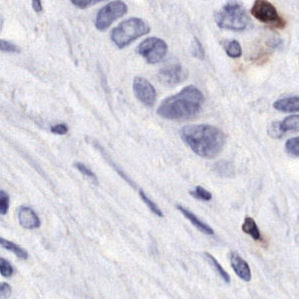Lymphocyte: (251, 1, 282, 26)
